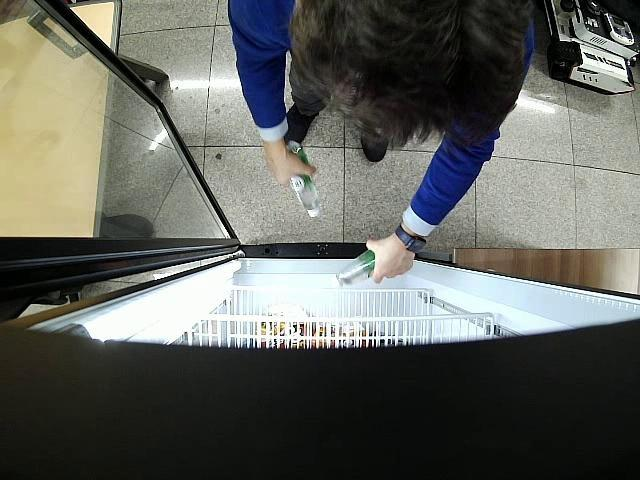18_trevi: (284, 142, 322, 218), (329, 250, 374, 287)
